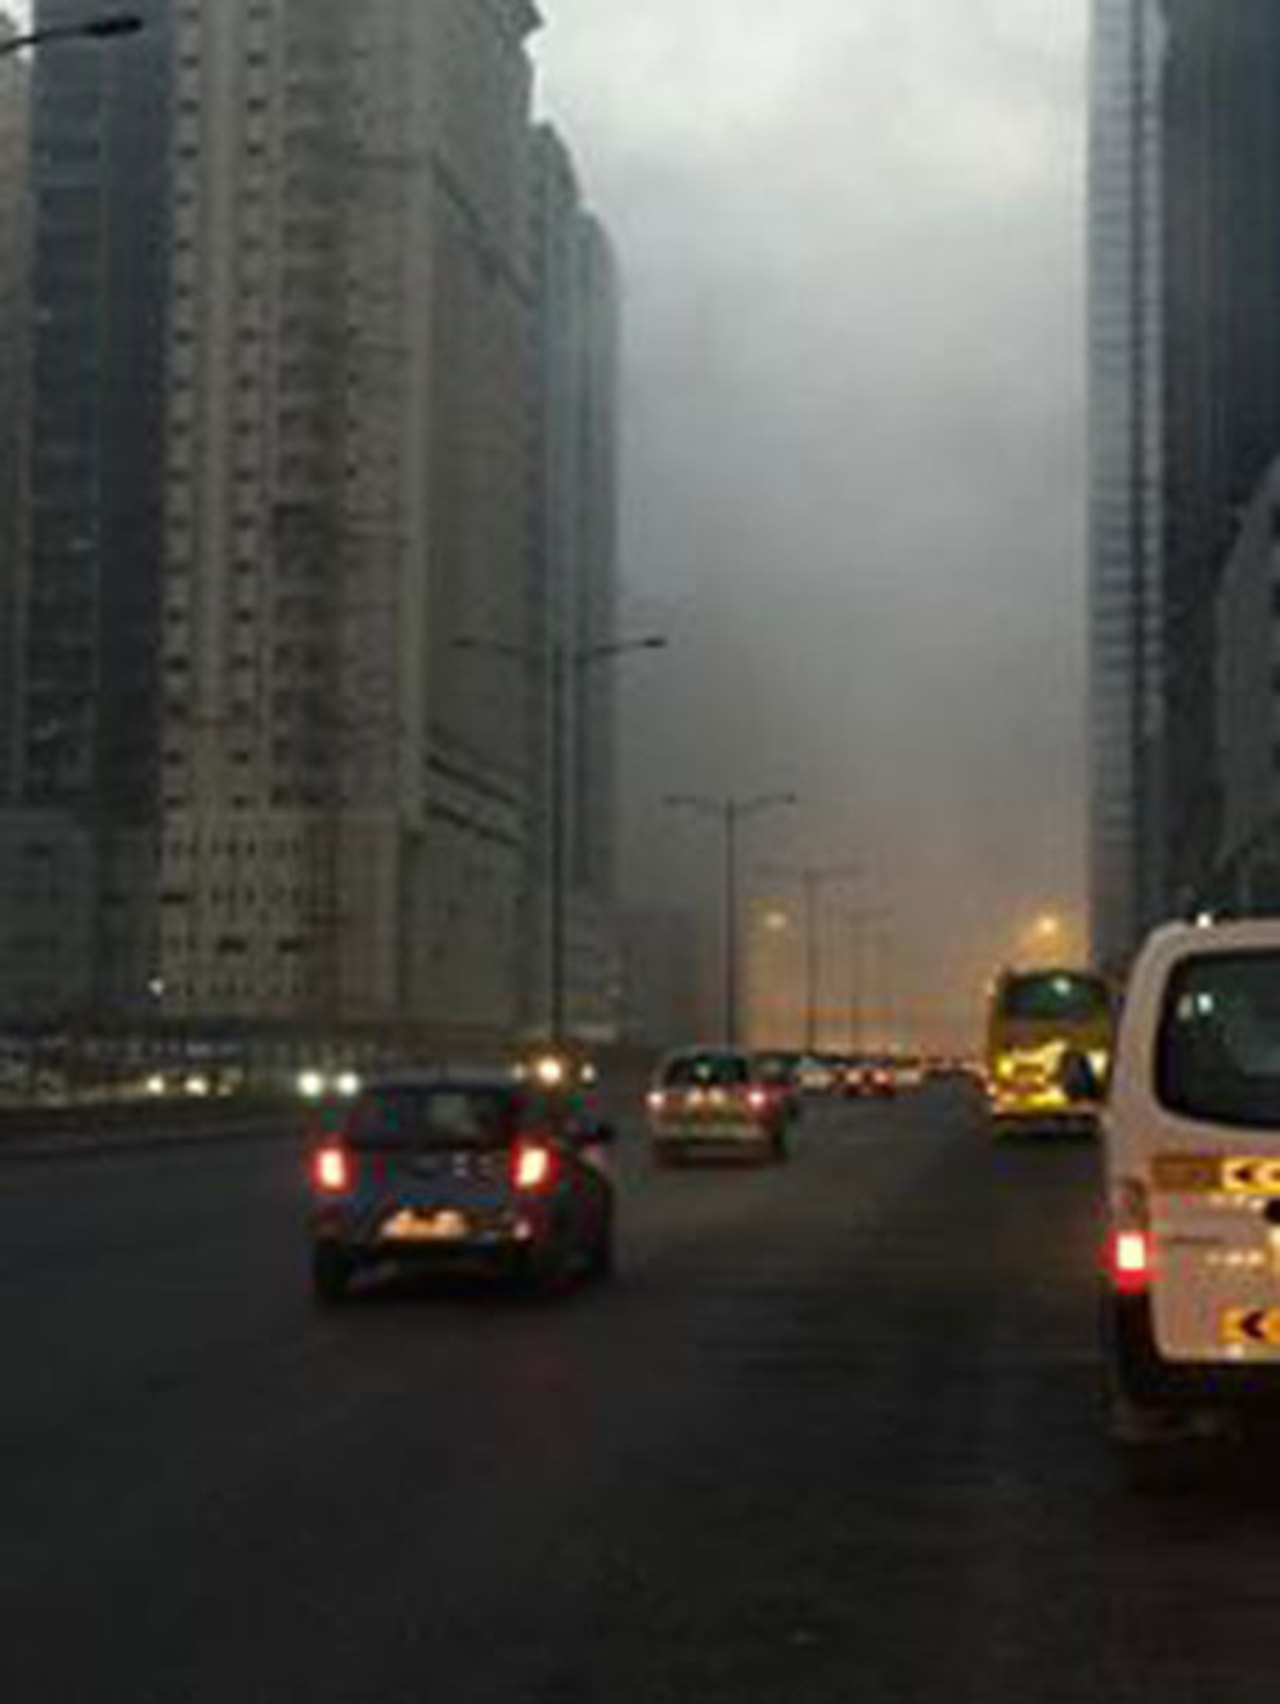bus: (980, 960, 1119, 1140)
car: (1086, 912, 1279, 1462), (304, 1068, 616, 1300), (649, 1054, 789, 1173)
